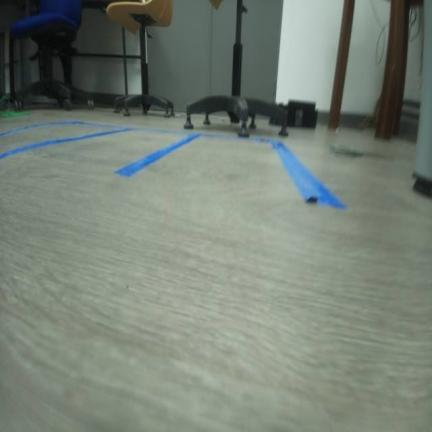place: (116, 130, 345, 210), (0, 125, 204, 176), (0, 120, 138, 160)
